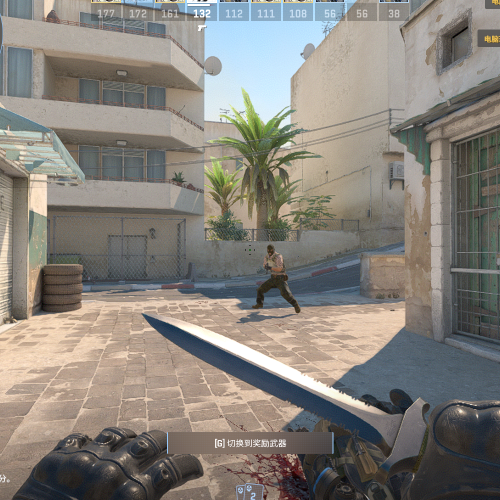t_body: (254, 241, 301, 314)
t_head: (264, 243, 276, 256)
